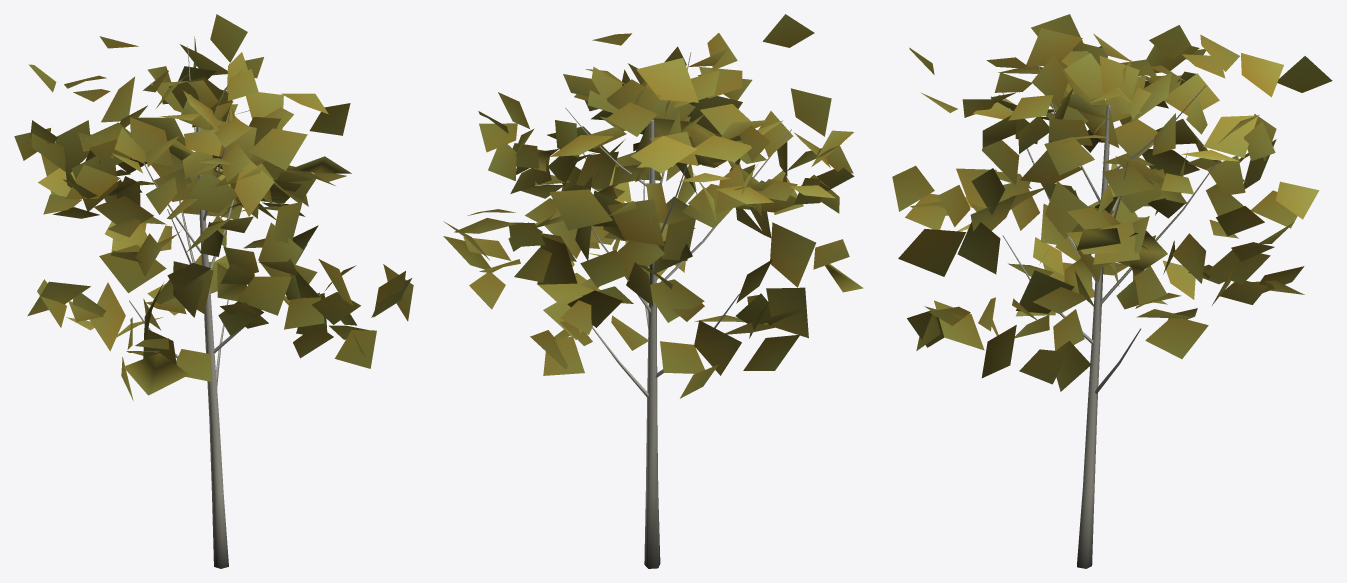
File: birch-c.lod2.glb
The picture shows the model from 3 angles, left to right: view 1: azimuth 30°, elevation 25°; view 2: azimuth 150°, elevation 25°; view 3: azimuth 270°, elevation 25°; orthographic projection. The views are drawn at different scales.
Bounding box in the file's own units: 8.67 × 12.27 × 9.49.
